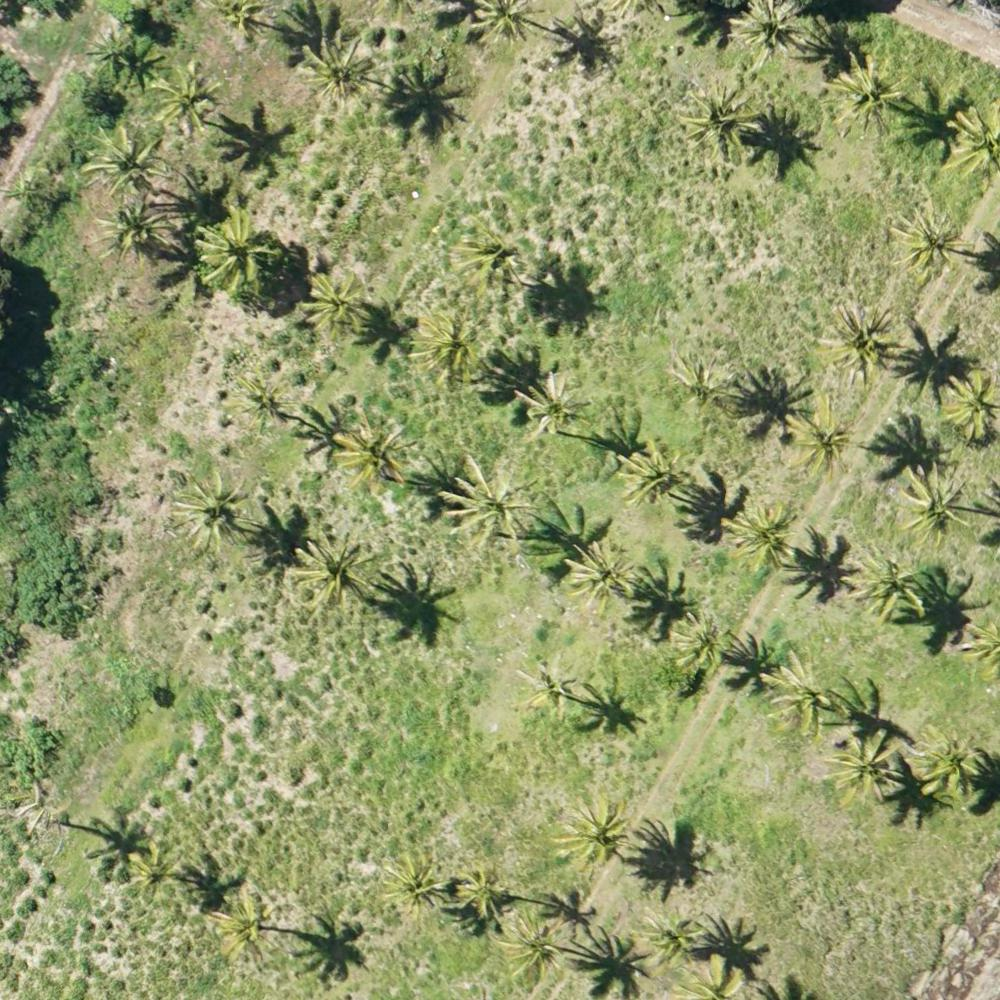Palm: (439, 458, 540, 551), (193, 208, 281, 296), (757, 651, 837, 740), (172, 473, 255, 554), (830, 52, 908, 134), (415, 308, 497, 386), (448, 219, 529, 297), (898, 463, 974, 546), (854, 547, 931, 626), (887, 207, 967, 283), (332, 422, 412, 498), (678, 85, 759, 160), (724, 497, 801, 575), (828, 729, 905, 807), (296, 532, 374, 609), (301, 36, 378, 113), (85, 127, 167, 198), (906, 721, 984, 795), (820, 306, 896, 380), (784, 402, 857, 479), (558, 801, 631, 876), (561, 545, 639, 612), (92, 195, 165, 265), (615, 443, 689, 512), (213, 889, 276, 967), (516, 375, 587, 444), (148, 66, 217, 136), (498, 909, 567, 979), (381, 851, 449, 922), (728, 1, 805, 63), (514, 658, 581, 723), (943, 367, 1000, 440), (232, 378, 298, 439), (639, 912, 702, 974), (301, 273, 364, 334), (670, 613, 731, 675), (122, 842, 184, 899), (456, 868, 509, 924)
